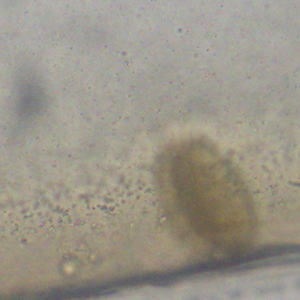Fasciola_hepatica_egg: (152, 134, 258, 265)
